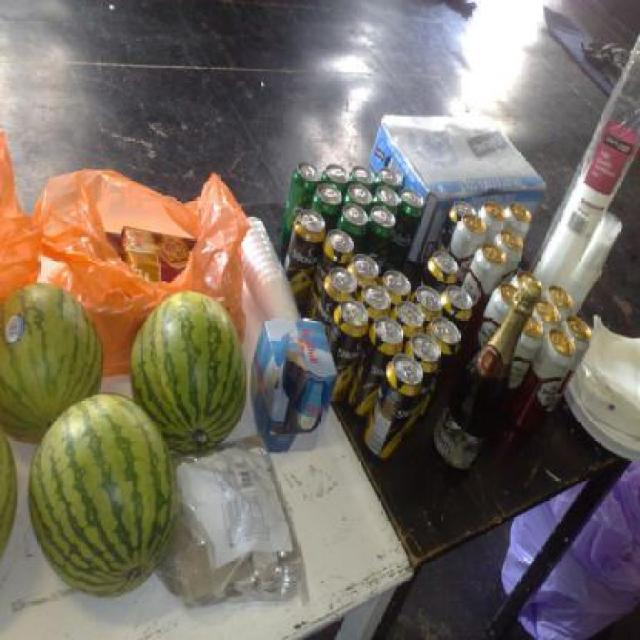Watermelon: (29, 390, 182, 601), (129, 290, 248, 455), (0, 282, 105, 444), (0, 428, 17, 562)
